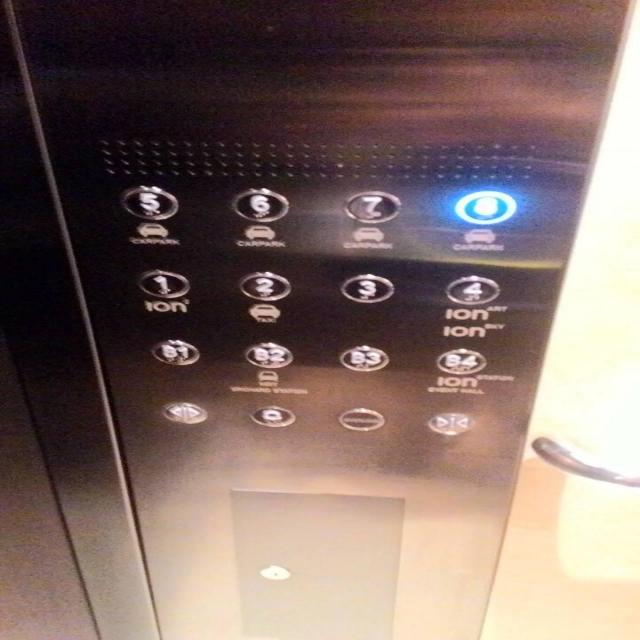1: (133, 267, 192, 299)
2: (236, 269, 294, 301)
3: (338, 271, 396, 303)
4: (443, 273, 501, 305)
5: (117, 182, 183, 222)
6: (228, 184, 294, 224)
7: (340, 186, 406, 226)
8: (453, 186, 519, 226)
B1: (146, 337, 202, 367)
B2: (240, 340, 296, 370)
B3: (337, 342, 393, 372)
B4: (432, 346, 488, 376)
alarm: (245, 402, 298, 428)
blur: (334, 404, 388, 434)
close: (424, 408, 479, 437)
open: (158, 400, 211, 426)
